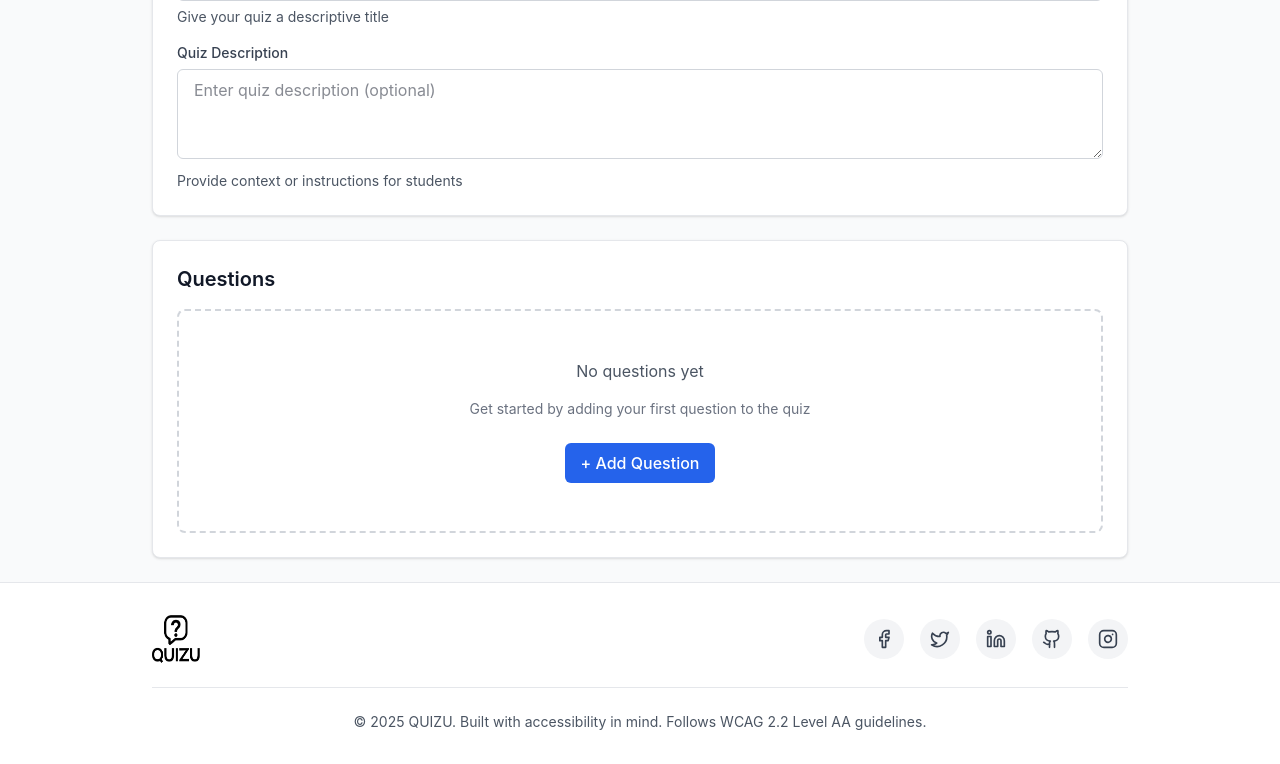
Test: Quiz Builder Integration Tests › Add/Remove Questions › should add a Single Choice question to the quiz
(page scrolled)
Click the button with aria-label "add first question" at (640, 463), box top-left (564, 443), bottom-right (715, 483)
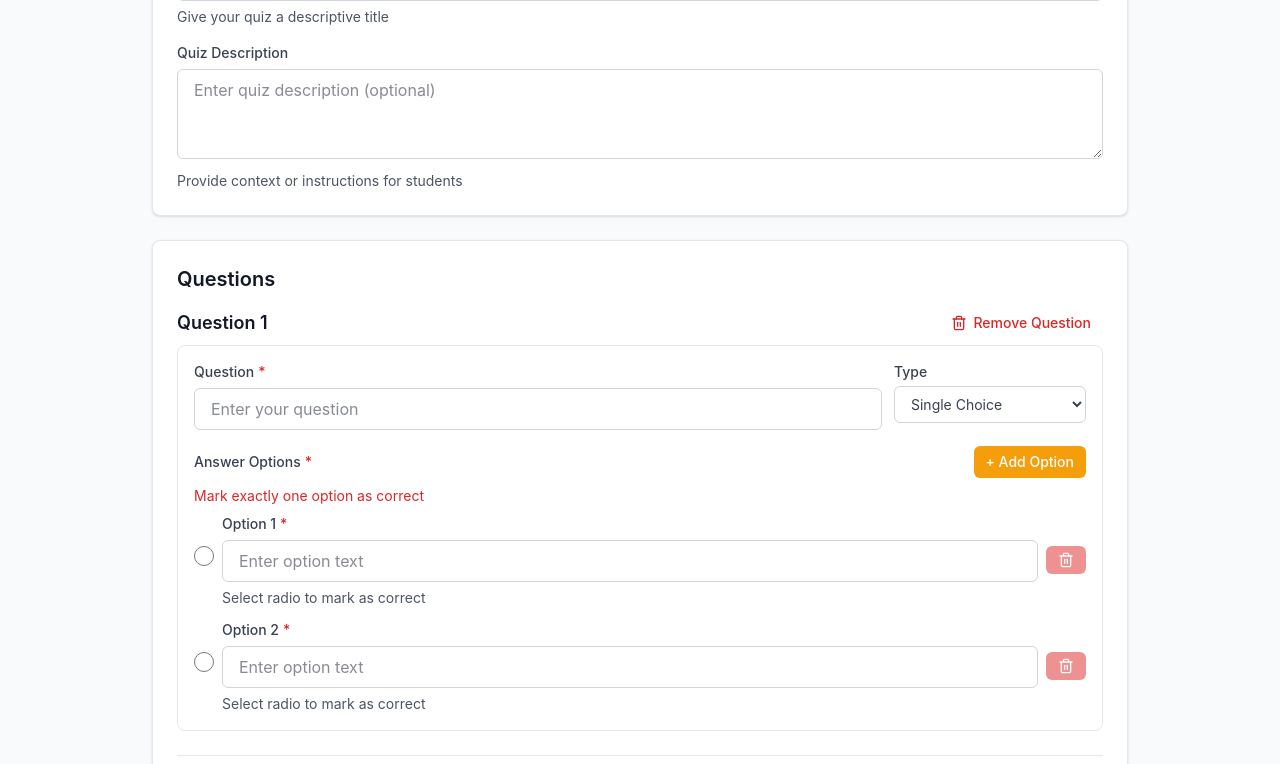
Check: the heading "Question 1" is shown, box top-left (177, 309), bottom-right (268, 337)
Check: the dropdown named "question 1 type" shows "Single Choice", box top-left (894, 386), bottom-right (1086, 423)
